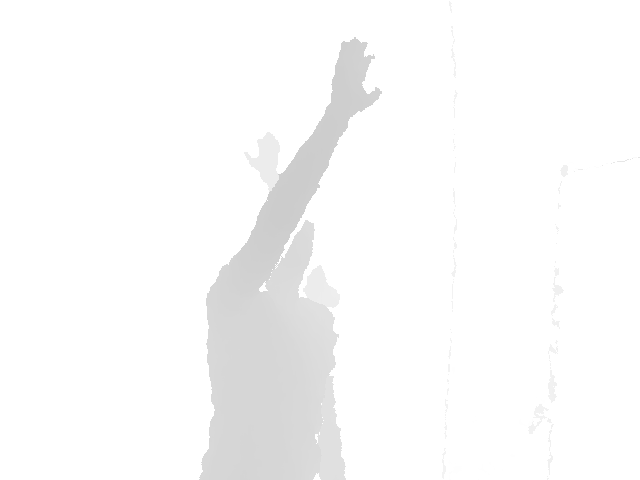hand: (331, 37, 382, 113), (244, 132, 281, 176)
head: (257, 215, 316, 299)
person: (196, 37, 382, 480), (243, 131, 341, 311)
